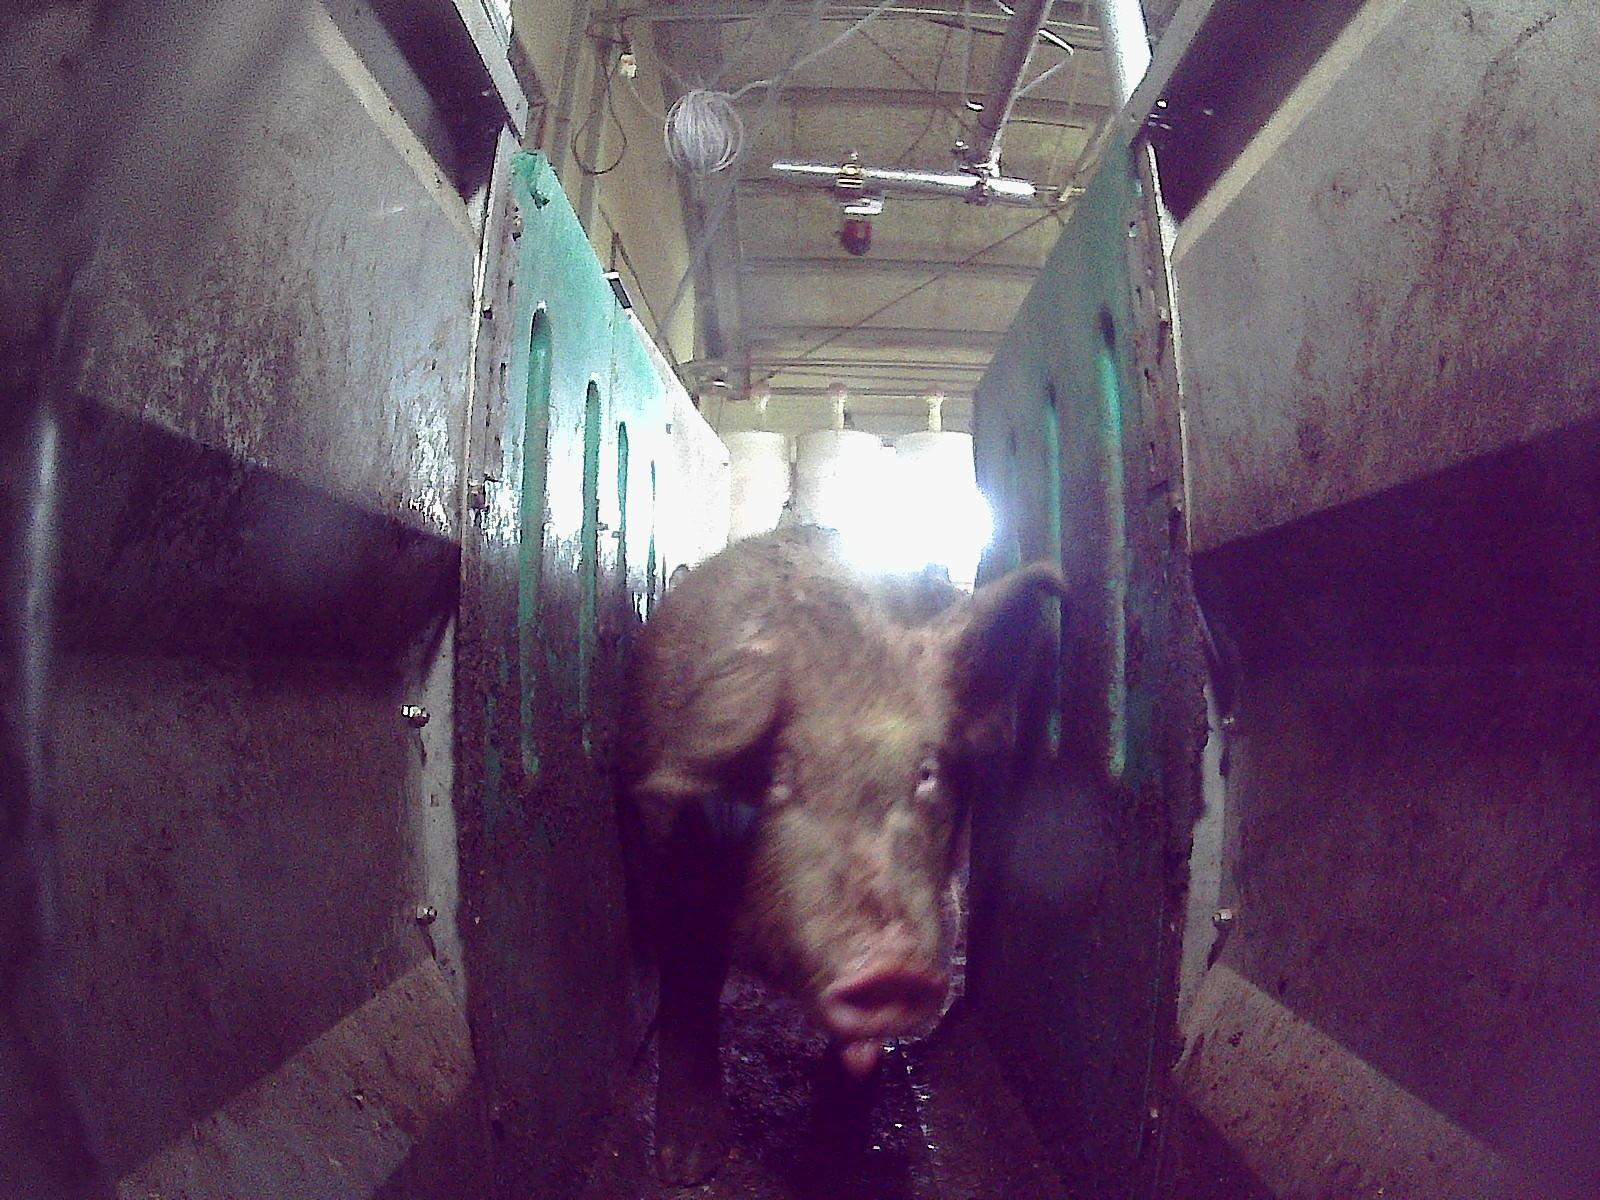Face: (710, 625, 969, 1074)
